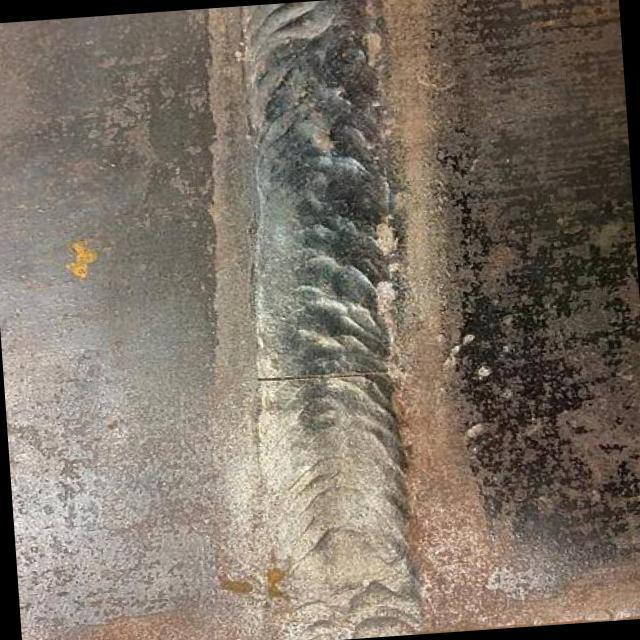defect: (243, 366, 388, 384)
